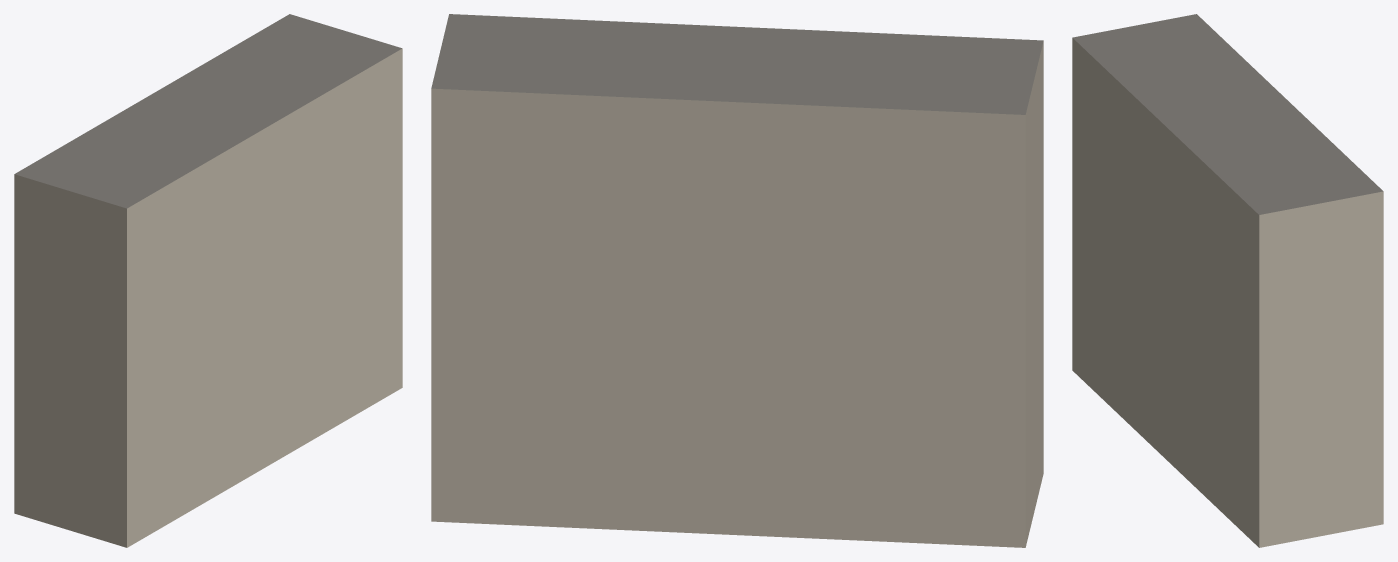
3 views of the same model, side by side, from view 1: azimuth 30°, elevation 25°; view 2: azimuth 150°, elevation 25°; view 3: azimuth 270°, elevation 25° (orthographic). The views are drawn at different scales.
Visible parts, largest first — view 1: HP-w446934356; view 2: HP-w446934356; view 3: HP-w446934356.
Part boxes in pixels (box(x1,y1,x2,y2)): HP-w446934356: box(14, 14, 402, 547); HP-w446934356: box(431, 14, 1043, 547); HP-w446934356: box(1072, 14, 1383, 547).
Bounding box in the file's own units: 23.32 × 18 × 15.26.
